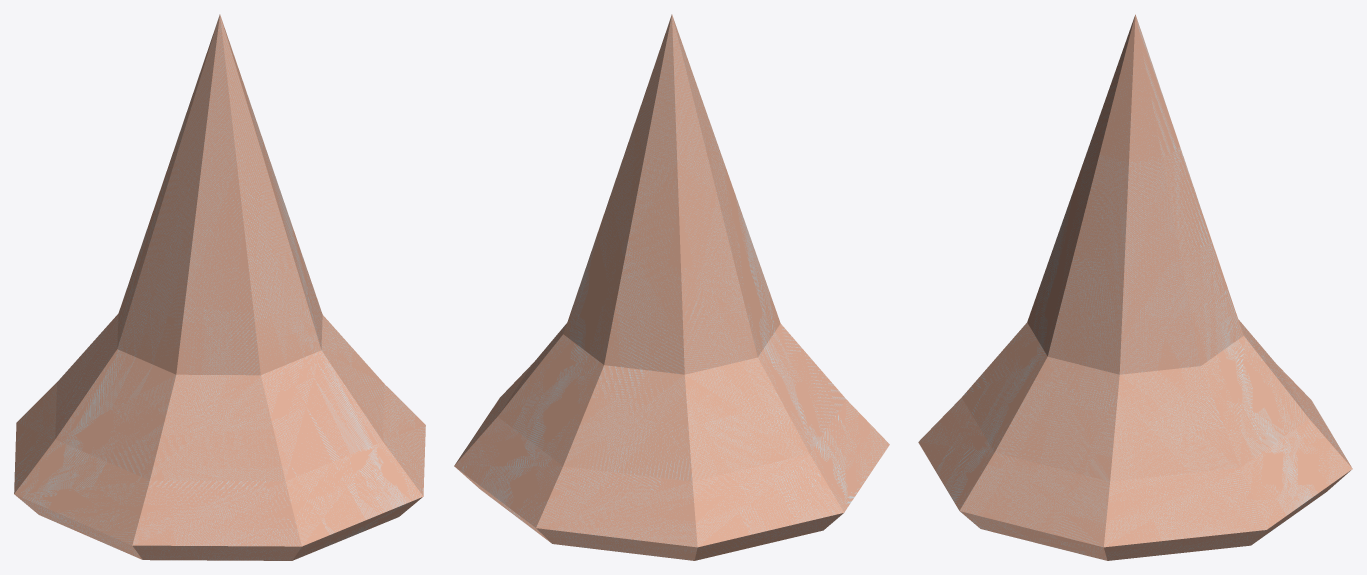
Rendered from Platform_Cap.fbx.
3 renders of one model, left to right at view 1: azimuth 30°, elevation 25°; view 2: azimuth 150°, elevation 25°; view 3: azimuth 270°, elevation 25°, orthographic.
Visible parts, largest first — view 1: Mesh1; view 2: Mesh1; view 3: Mesh1.
Boxes of the visible parts, bbox=[...] form: Mesh1: bbox=[14, 14, 425, 560]; Mesh1: bbox=[454, 14, 889, 560]; Mesh1: bbox=[918, 14, 1352, 560].
Size of the model in its own units: 800 by 947 by 800.
